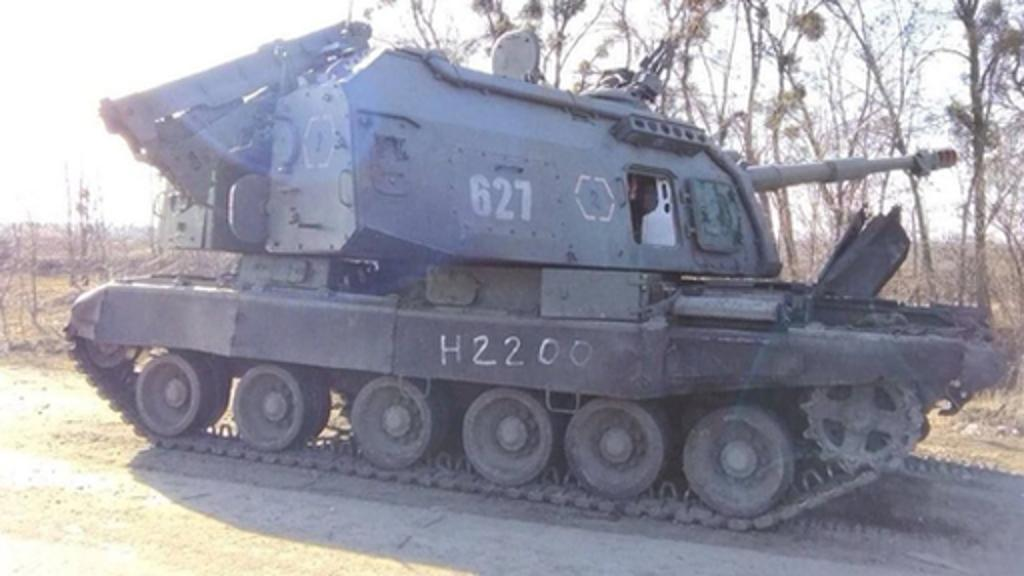ART: (58, 24, 988, 544)
